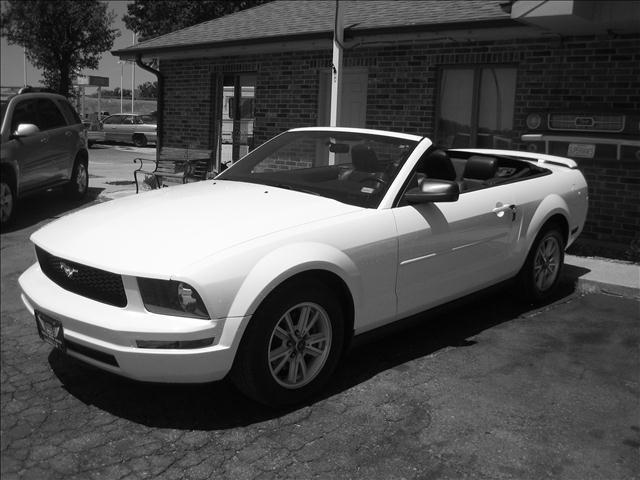car: (17, 126, 592, 411)
